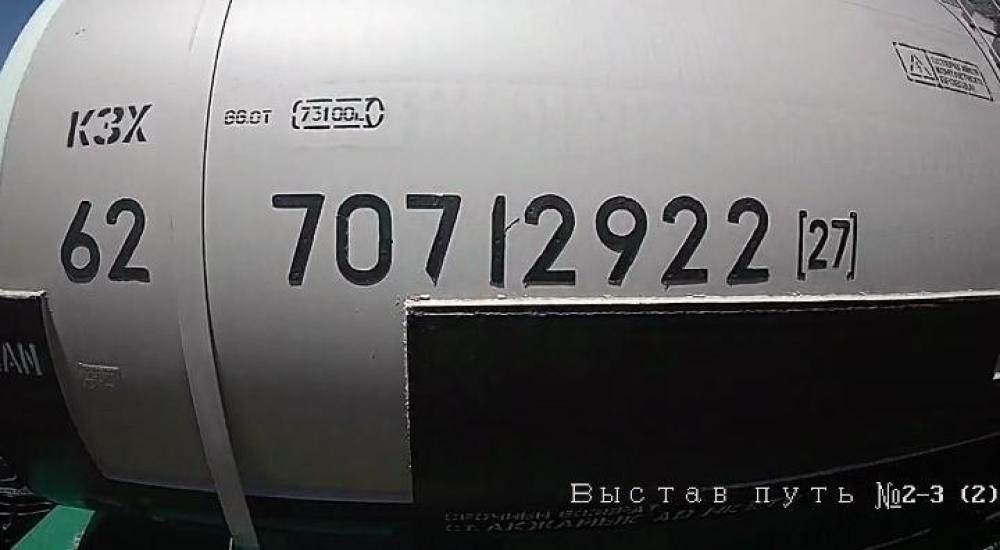Wagon-number: (266, 183, 780, 291)
